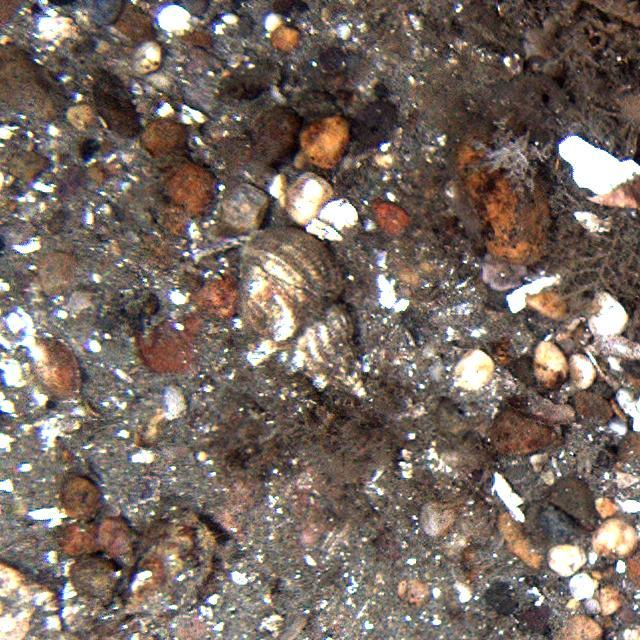whelk: (242, 227, 368, 397)
